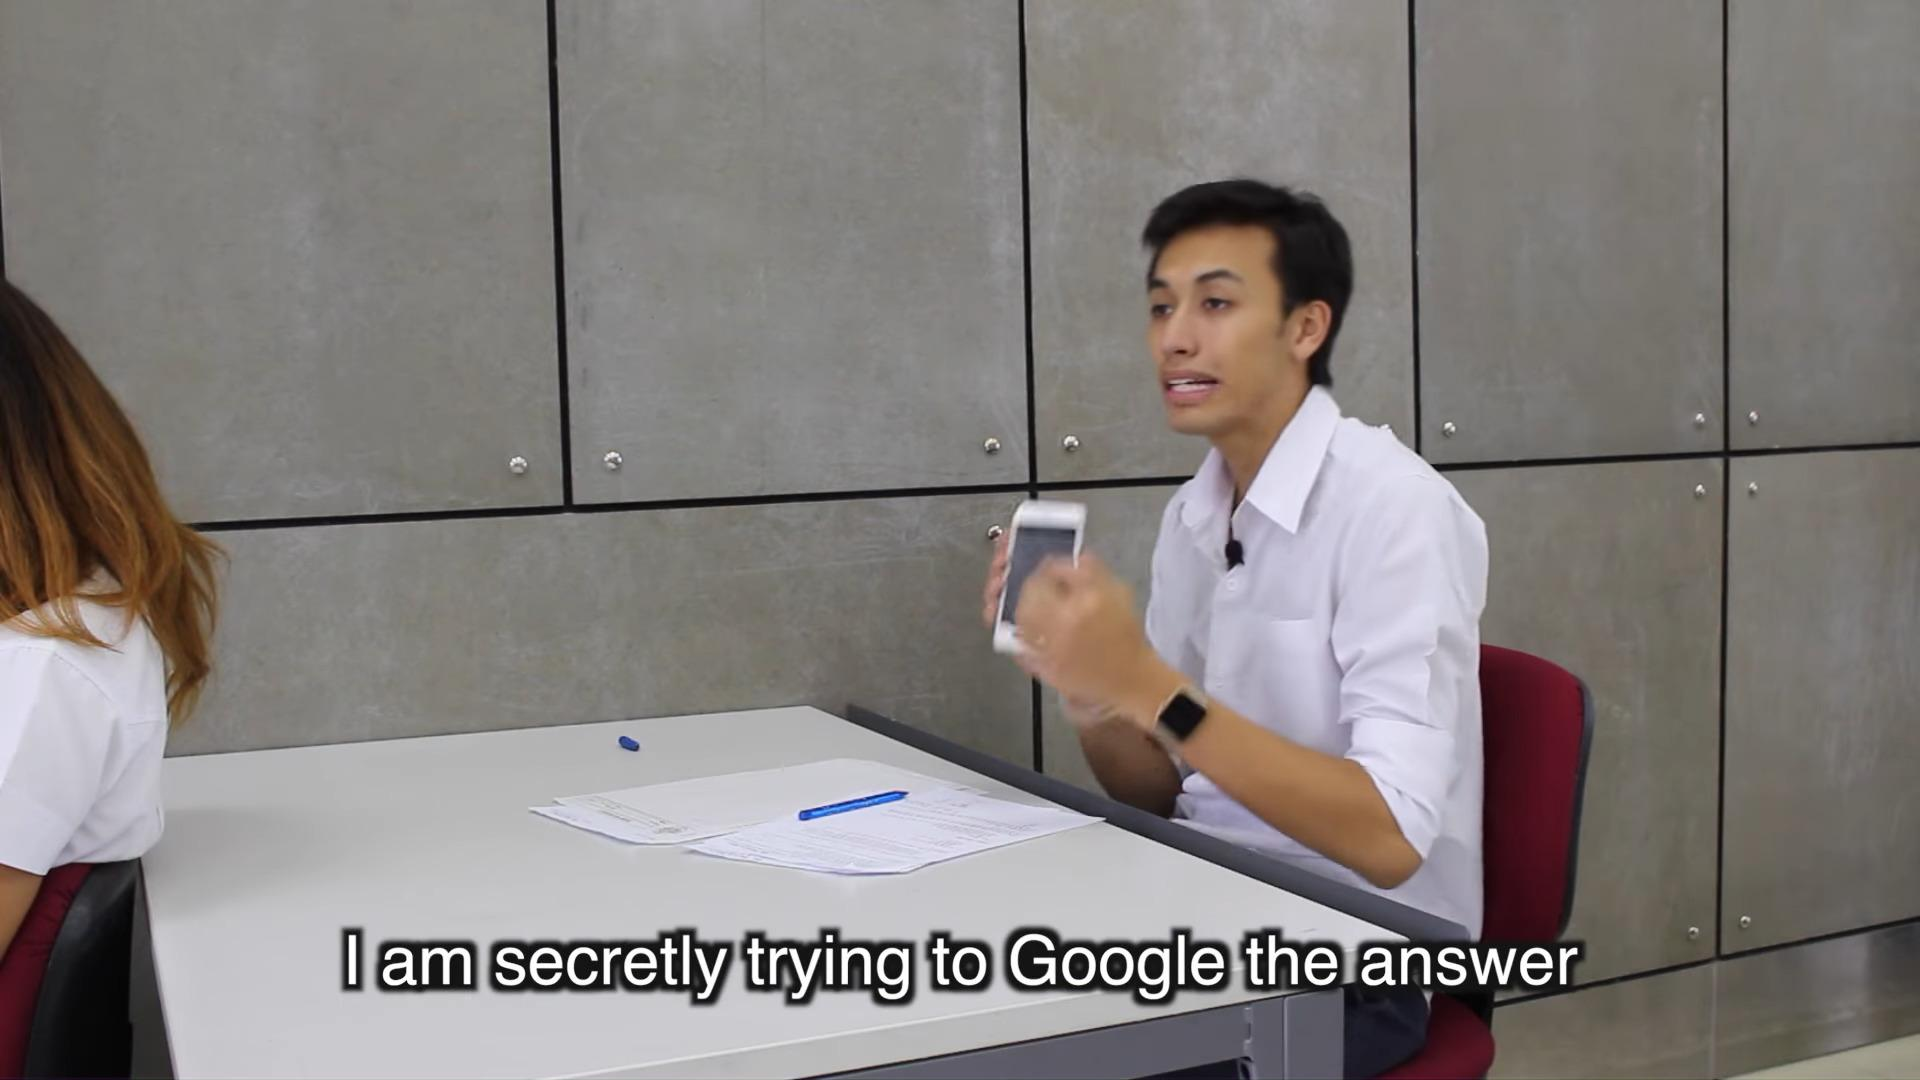cheating: (953, 150, 1528, 918)
